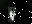person: (9, 8, 17, 23)
